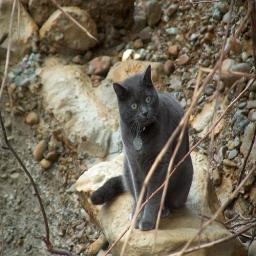catnose: (140, 108, 149, 120)
